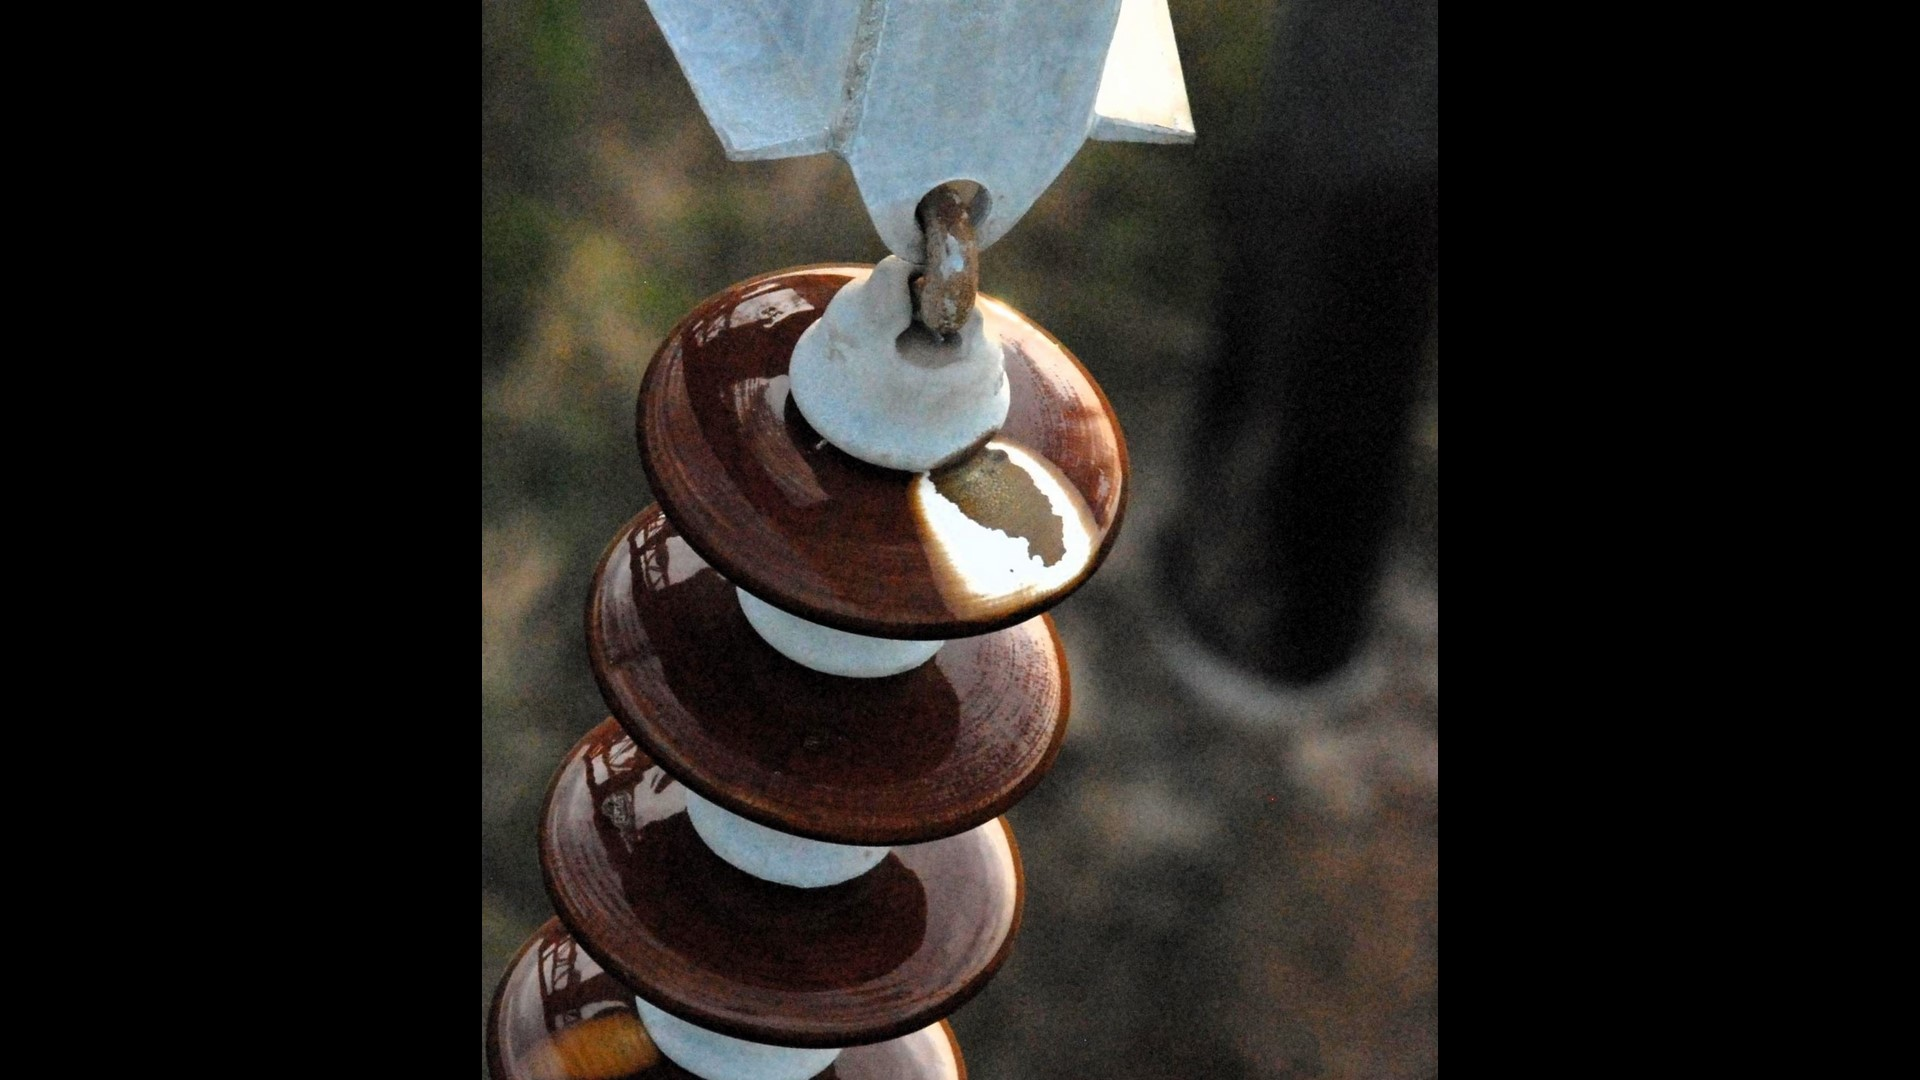Insulator flashover: (632, 253, 1149, 647)
